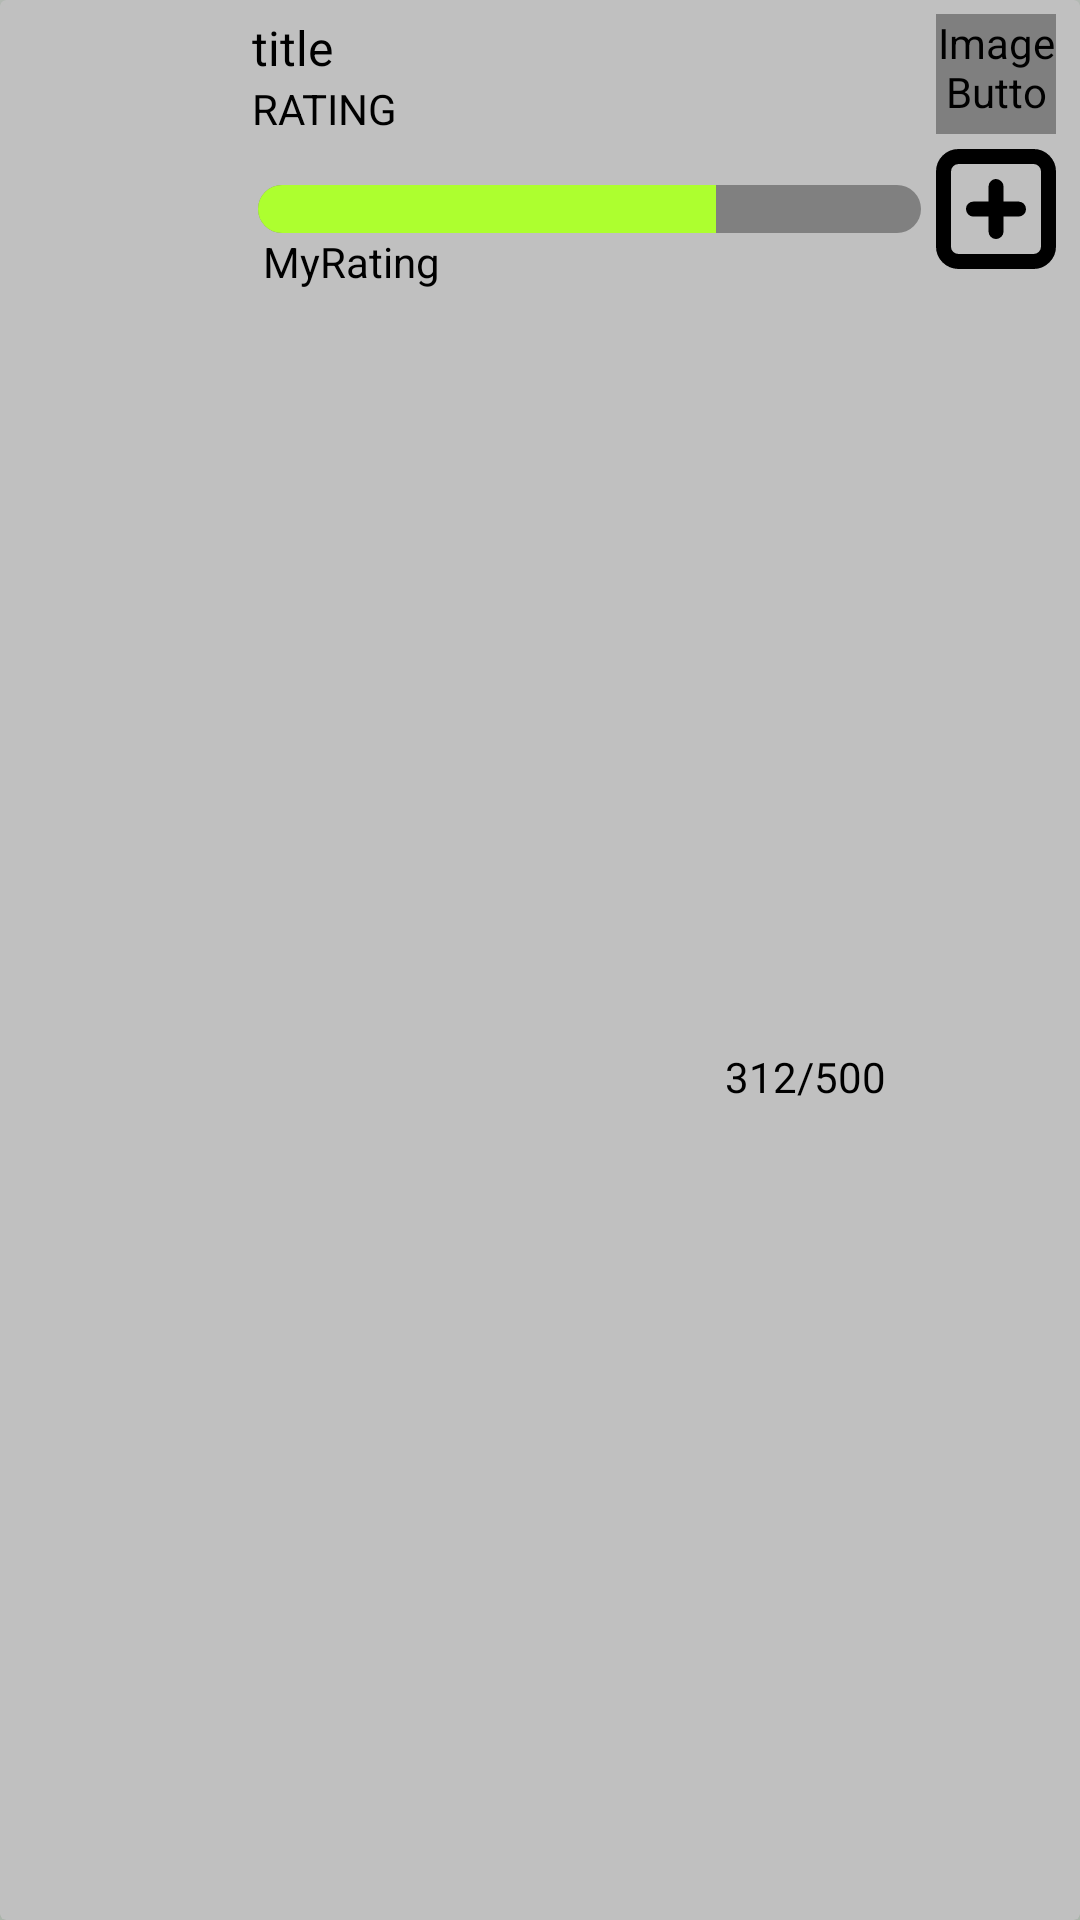

Icons on this 1080x1920 Android screen, each with its box as (x1, y1, x2, y2):
plus: (936, 149, 1056, 269)
